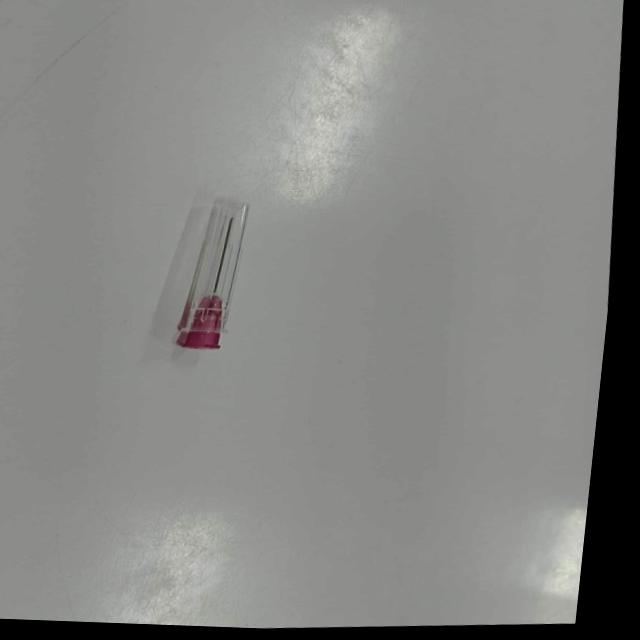Sharps: (174, 196, 251, 350)
